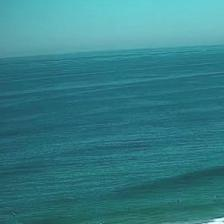surfer: (13, 211, 19, 214), (127, 206, 131, 210), (177, 199, 180, 203), (167, 203, 171, 206), (216, 194, 218, 198), (100, 222, 106, 223), (84, 209, 87, 211), (214, 199, 216, 202), (86, 222, 88, 224)
